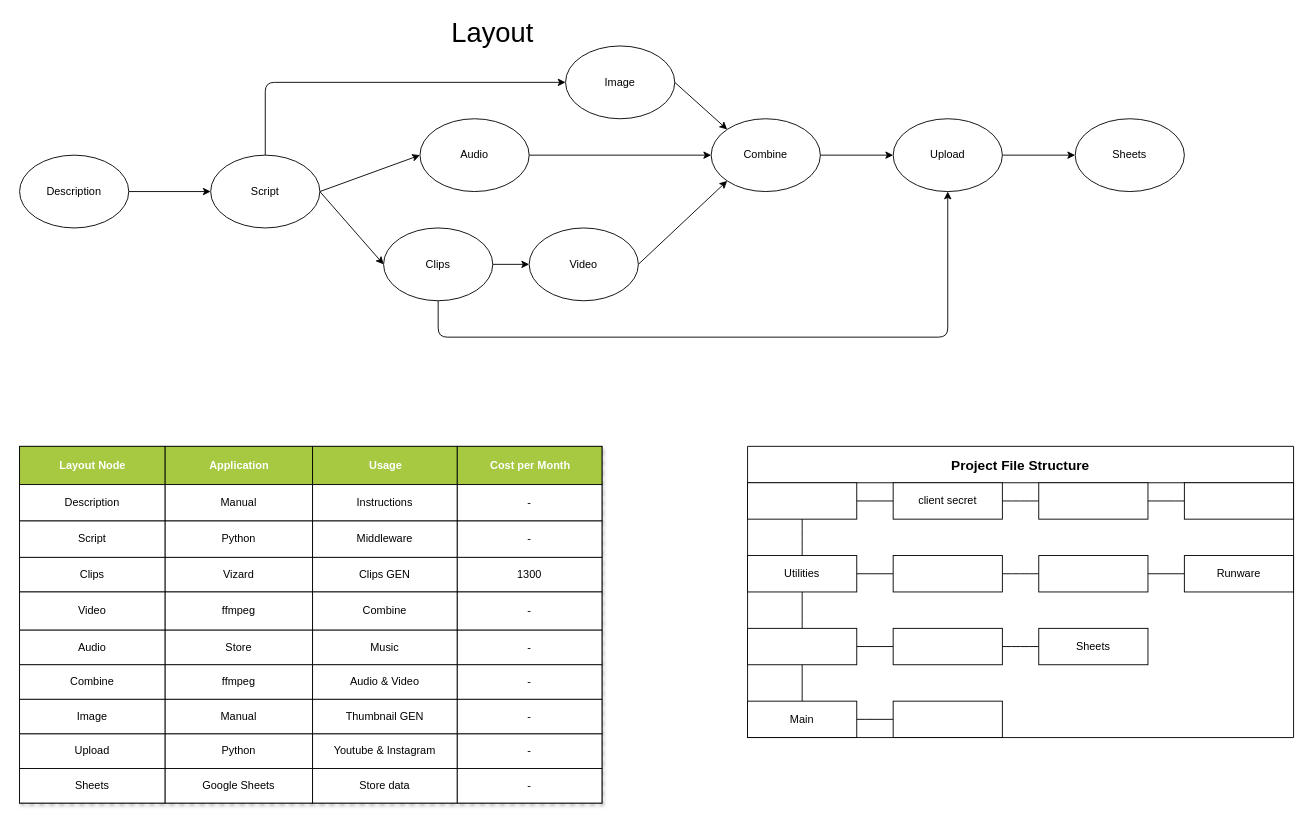
This 1309x825 diagram has some shape labels left out. The centre of each missing label's shape, as x and y in pixels:
api: (1093,500)
basic data: (1238,500)
Files: (947,646)
Keys: (802,500)
Open API: (1093,573)
Output: (802,646)
Scripts: (947,719)
Youtube: (947,573)
